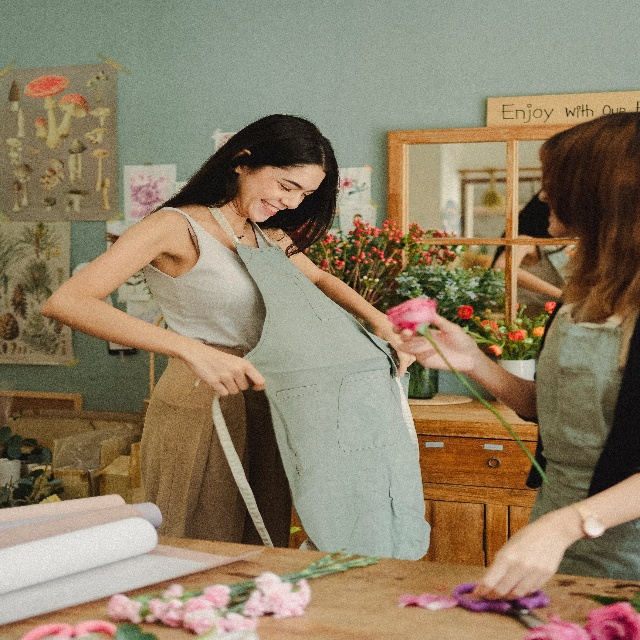Sin_guantes: (475, 504, 574, 600), (395, 315, 478, 381), (191, 342, 263, 397), (376, 312, 416, 376)
